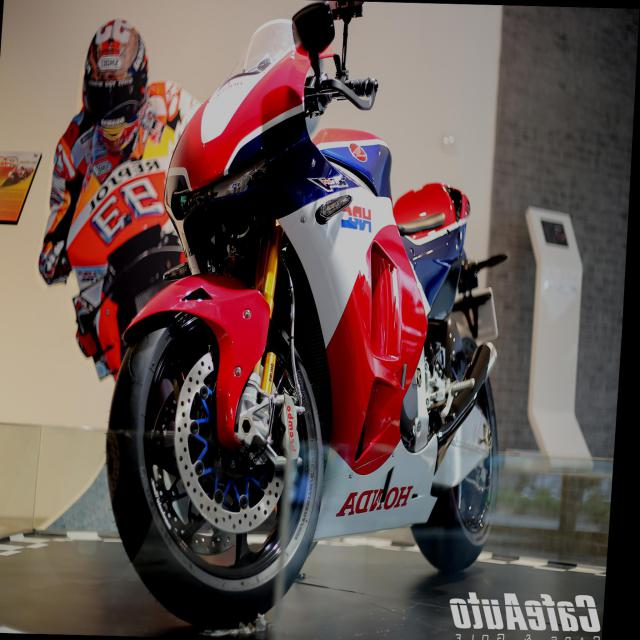HRC RCV 213: (100, 10, 528, 637)
